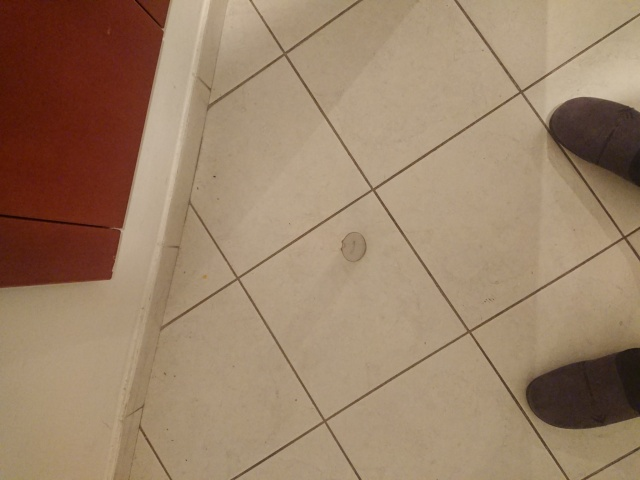Kotanyi Garlic Granules 70g: (339, 231, 368, 264)
